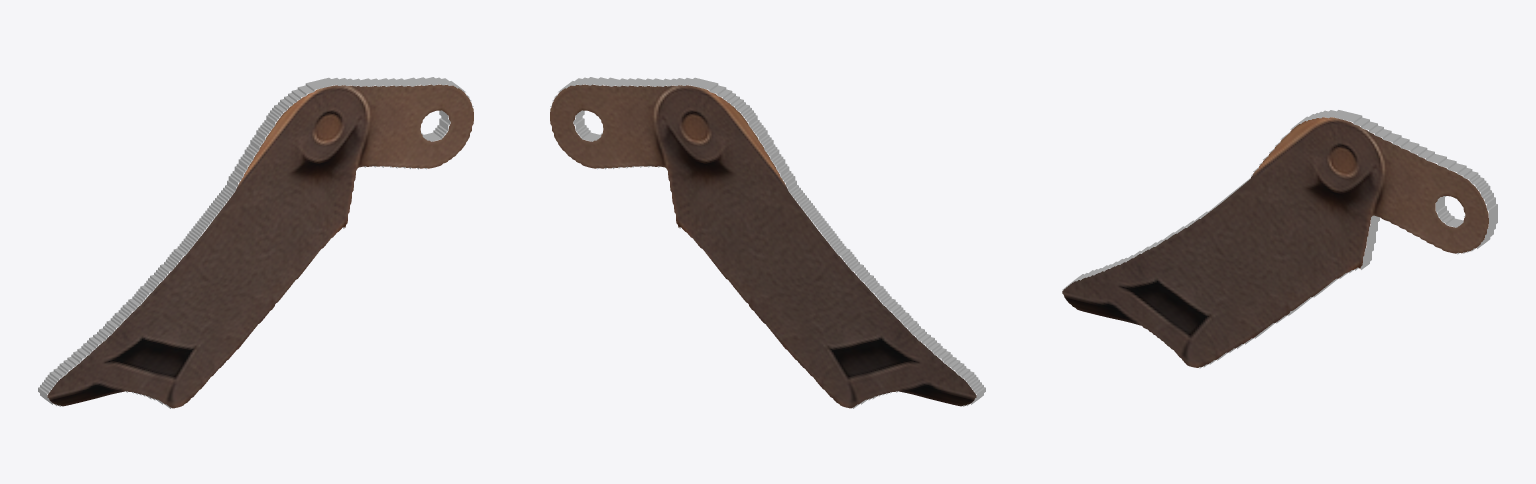
File: ThighLeft.glb
The picture shows the model from 3 angles, left to right: view 1: azimuth 30°, elevation 25°; view 2: azimuth 150°, elevation 25°; view 3: azimuth 330°, elevation 25°; orthographic projection.
Visible parts, largest first — view 1: PaperVolume; view 2: PaperVolume; view 3: PaperVolume.
Part boxes in pixels (box(x1,y1,x2,y2)): PaperVolume: box(38, 77, 473, 408); PaperVolume: box(550, 77, 985, 408); PaperVolume: box(1062, 110, 1497, 368).
Bounding box in the file's own units: 2.41 × 1.62 × 0.08.
3 materials, 2 textured.
